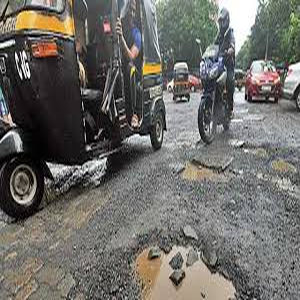pothole: (126, 226, 245, 300), (178, 156, 238, 182)
